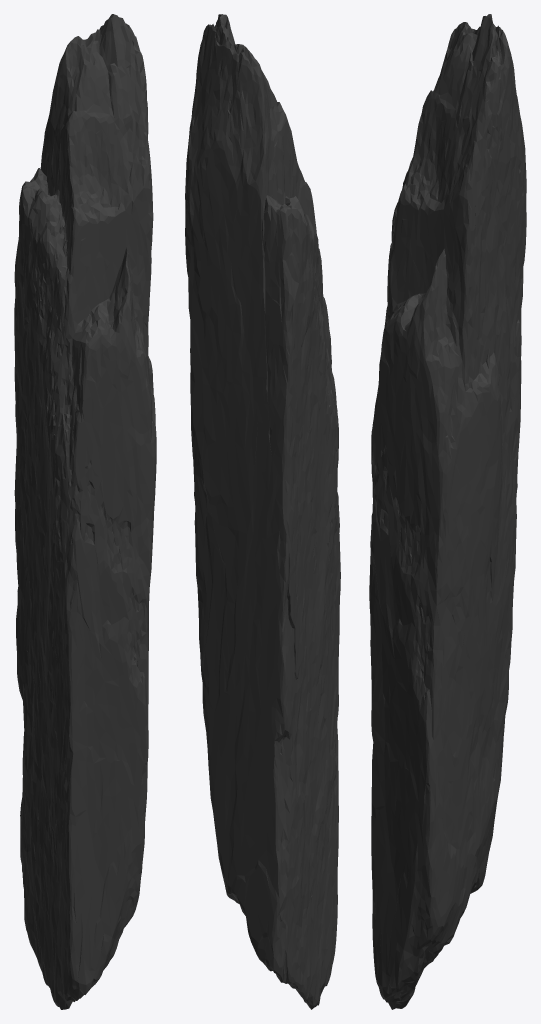
Rendered from truth.glb.
3 views of the same model, side by side, from view 1: azimuth 30°, elevation 25°; view 2: azimuth 150°, elevation 25°; view 3: azimuth 330°, elevation 25° (orthographic). The views are drawn at different scales.
Parts seen in each view (by area): view 1: geometry; view 2: geometry; view 3: geometry.
Part boxes in pixels (box(x1,y1,x2,y2)): geometry: box(14, 14, 156, 1009); geometry: box(185, 14, 340, 1009); geometry: box(369, 14, 526, 1009).
Size of the model in its own units: 0.1397 by 1.17 by 0.1461.
Materials: 1 (1 with a texture image).
